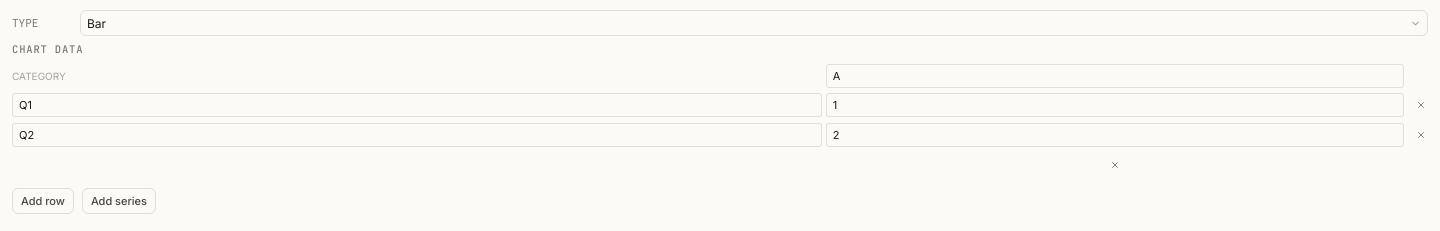
ChartDataEditor › supports negative values and does not commit incomplete input
Clear the 2nd number field showing "2": (1115, 135) [826, 123, 1404, 147]
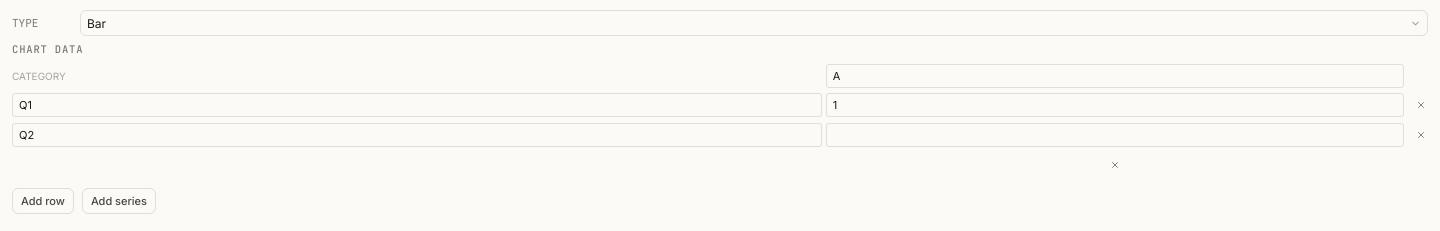
In the 2nd number field showing "2": (1115, 135) [826, 123, 1404, 147], type "-3"
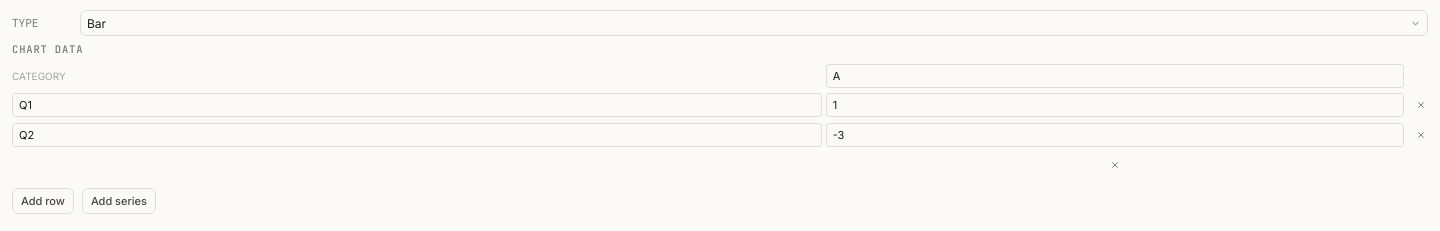
Clear the 2nd number field showing "2": (1115, 135) [826, 123, 1404, 147]
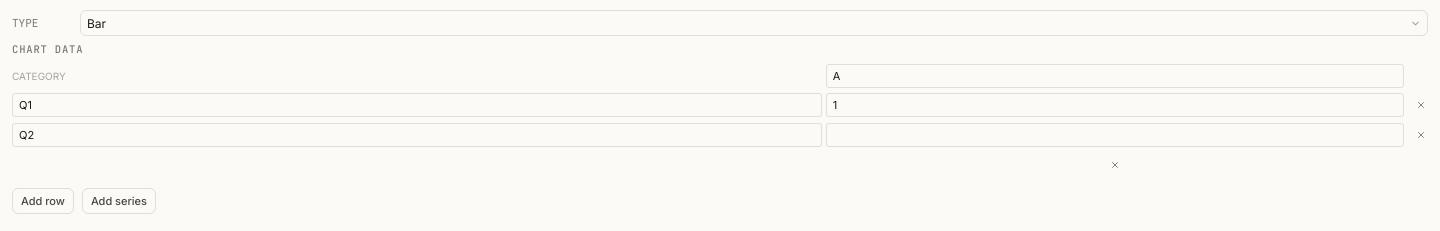
Leave the 2nd number field showing "2", box [826, 123, 1404, 147]
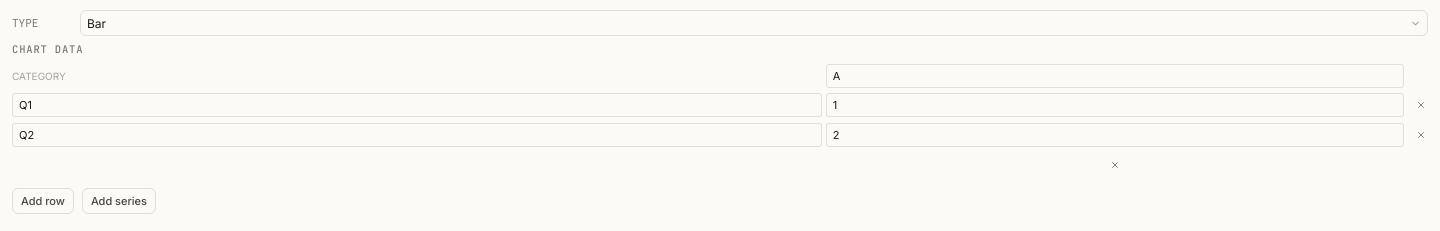
Check: the 2nd number field showing "2" holds "2", box [826, 123, 1404, 147]
